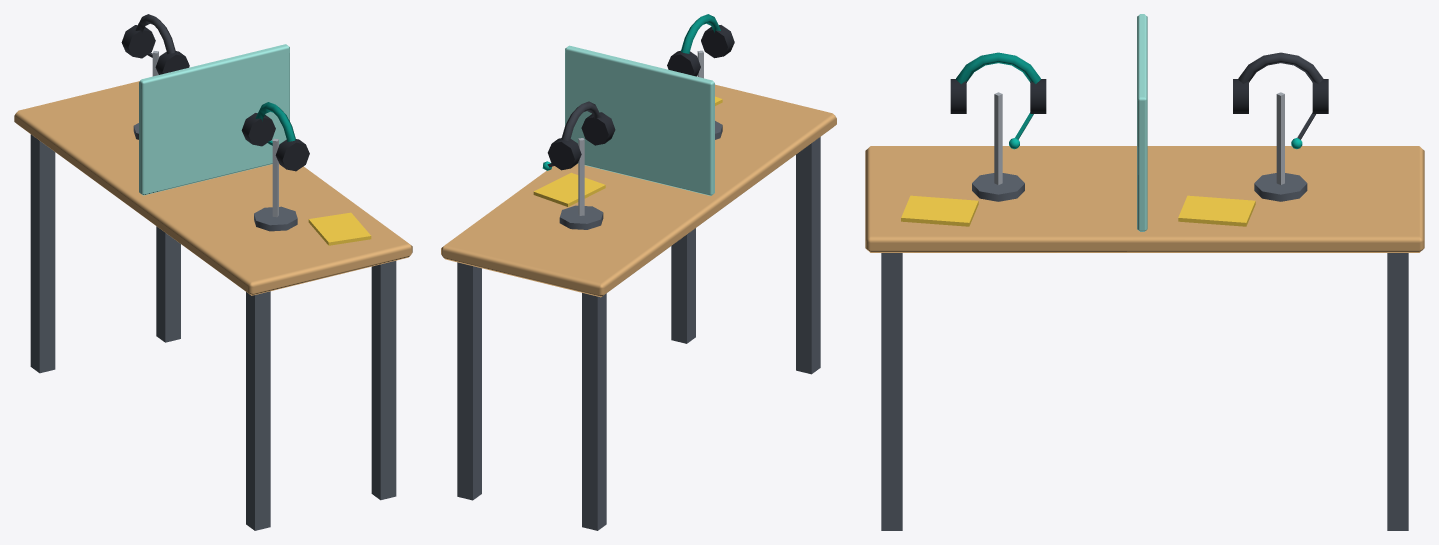
Rendered from station_intake_ausstattung_2_2.glb.
3 renders of one model, left to right at view 1: azimuth 30°, elevation 25°; view 2: azimuth 150°, elevation 25°; view 3: azimuth 270°, elevation 25°, orthographic. The views are drawn at different scales.
Visible parts, largest first — view 1: station_intake_ausstattung_2_2; view 2: station_intake_ausstattung_2_2; view 3: station_intake_ausstattung_2_2.
Boxes of the visible parts, <box> form: station_intake_ausstattung_2_2: <box>14,14,412,530</box>; station_intake_ausstattung_2_2: <box>441,14,836,530</box>; station_intake_ausstattung_2_2: <box>865,14,1424,530</box>.
Size of the model in its own units: 0.42 by 0.907 by 1.05.
